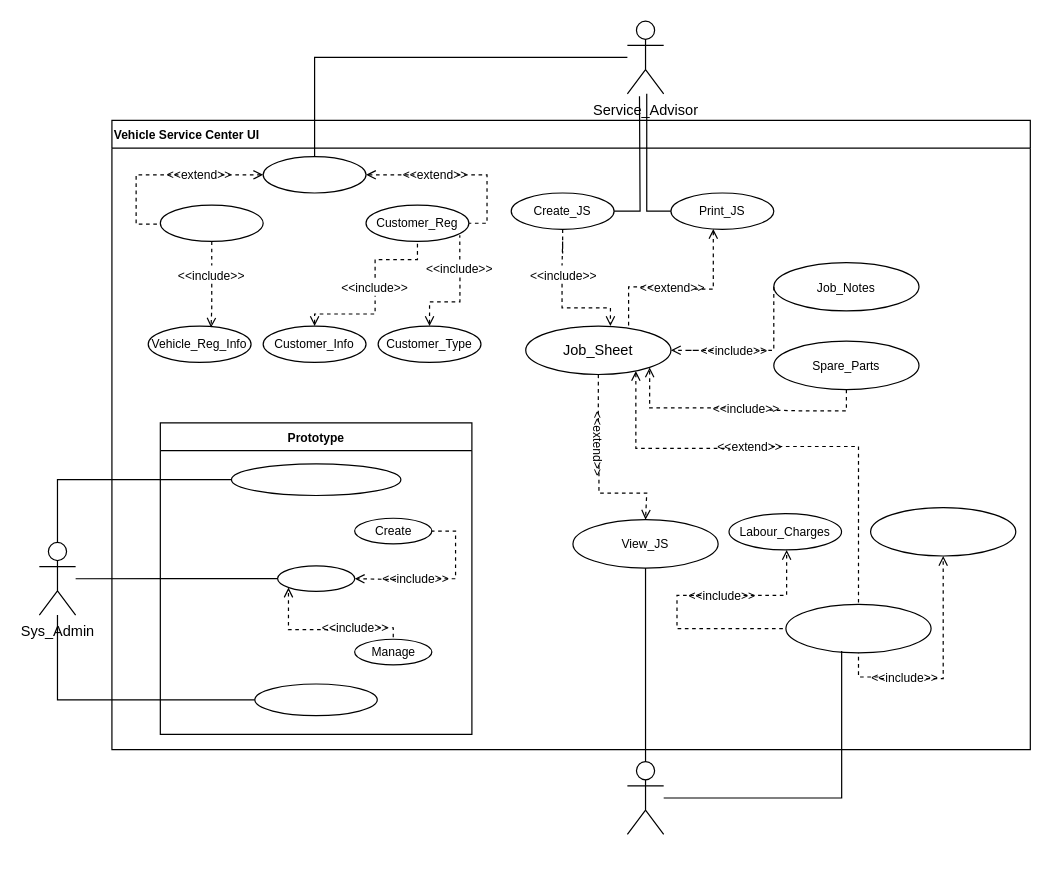
Some shapes in this 1051 by 881 pixel diagram are drawn without their labels. Each missing label, with the centre of its shape:
Mechanic: (645,797)
Records: (858,628)
Registration: (314,174)
SP_Record_info: (942,531)
Twitter_API: (315,699)
Users: (315,578)
Vehicle: (211,222)
Vehicle_Test_Data: (315,479)
